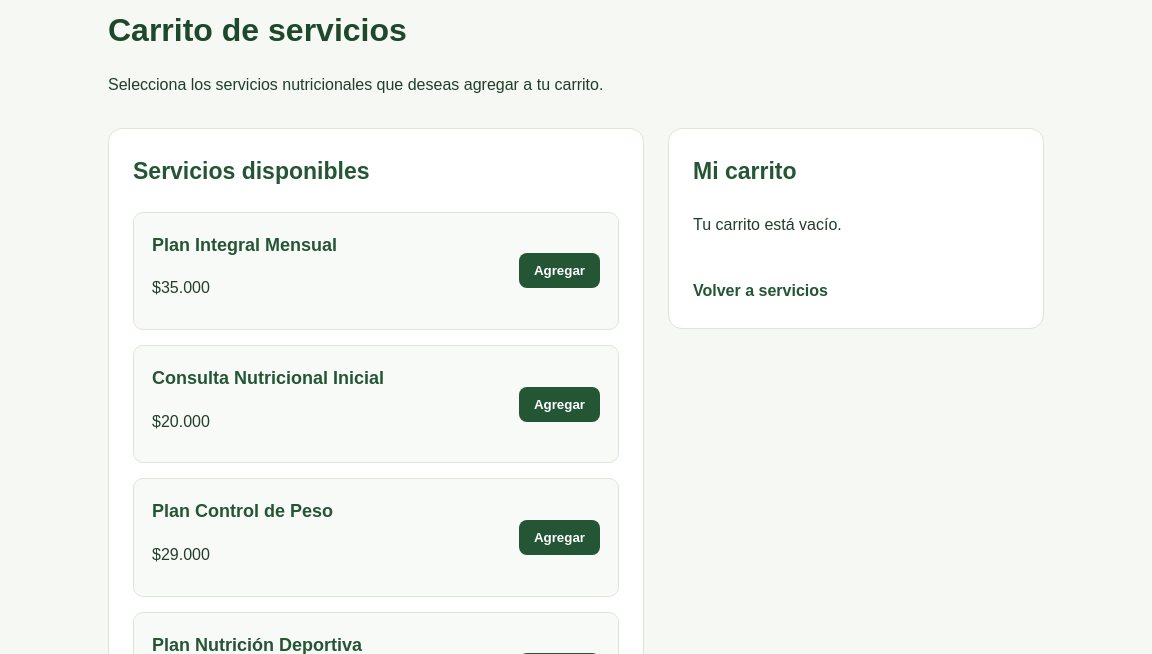
Carrito de servicios NutriVida › Calcula el total de dos servicios diferentes
Click the button "Agregar" in the row of "$35.000": (559, 271) 519,253 -> 600,288
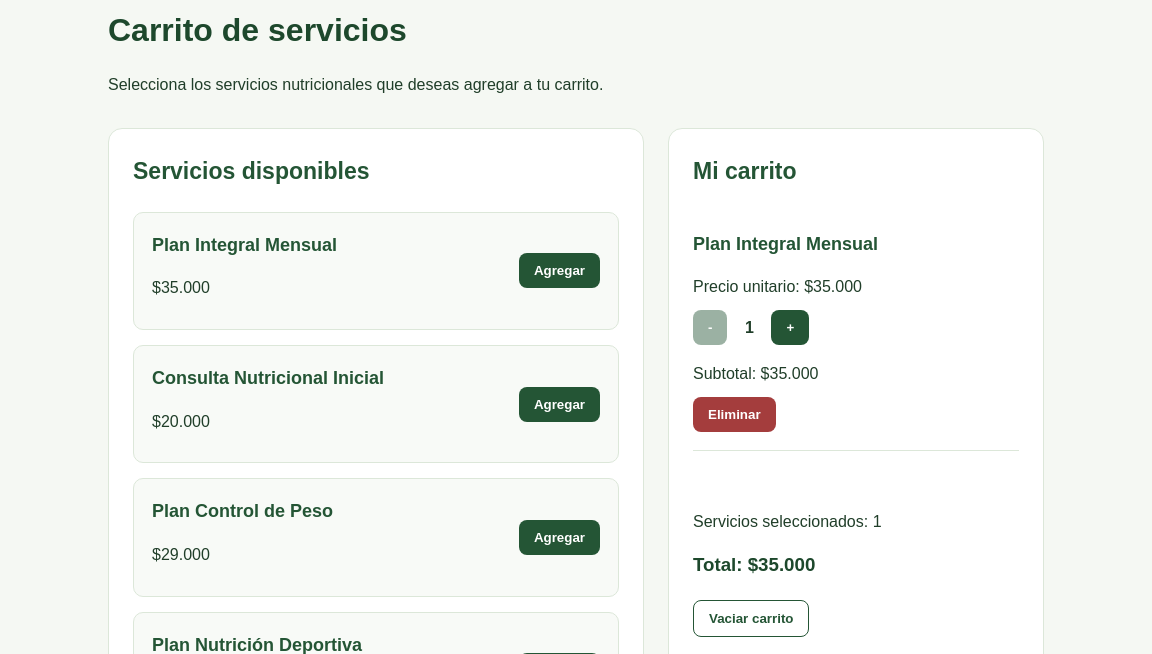
Click the button "Agregar" in the row of "$20.000": (559, 404) 519,387 -> 600,422
(page scrolled)
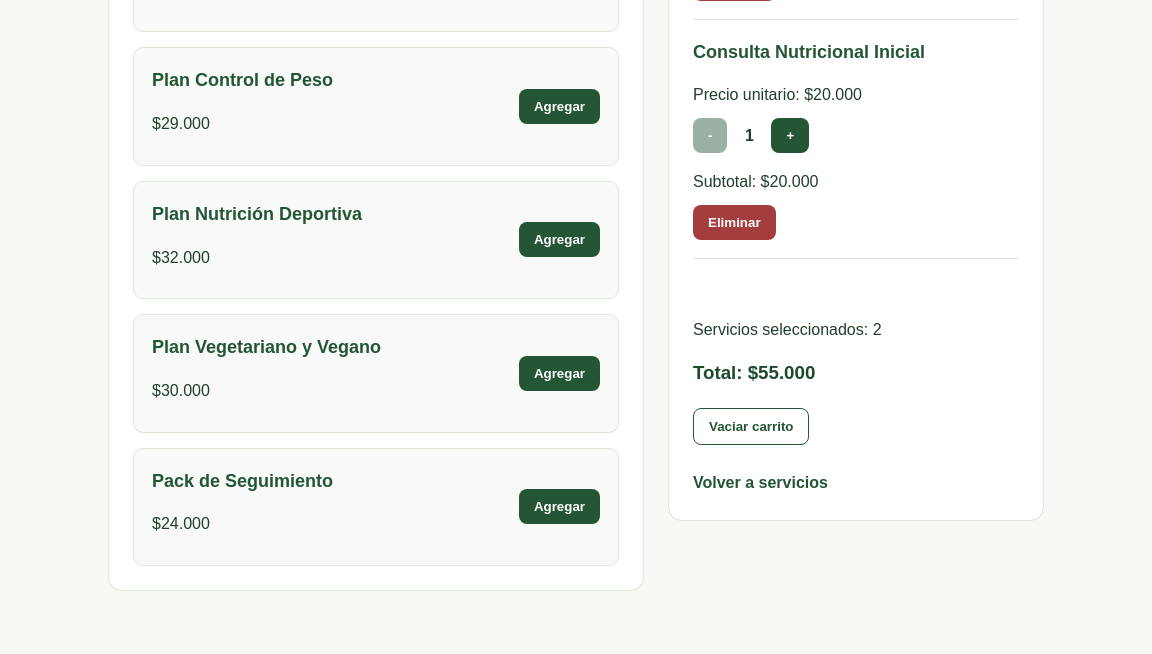
Result: the text "Servicios seleccionados: 2" is shown at 693,320 -> 882,338
Result: the heading "Total: $55.000" is shown at 693,362 -> 815,383
